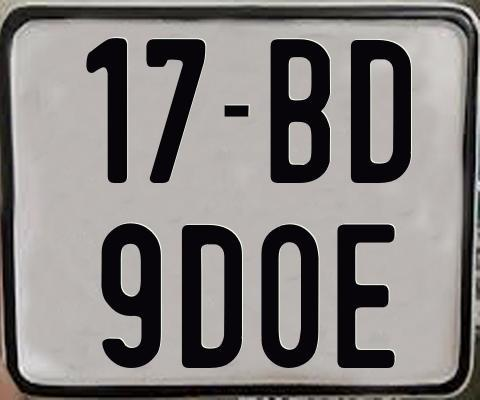0: (260, 221, 321, 371)
1: (85, 36, 131, 182)
7: (146, 38, 205, 185)
9: (98, 221, 164, 368)
B: (269, 36, 333, 185)
D: (182, 223, 248, 366), (351, 37, 416, 182)
E: (337, 223, 398, 368)
